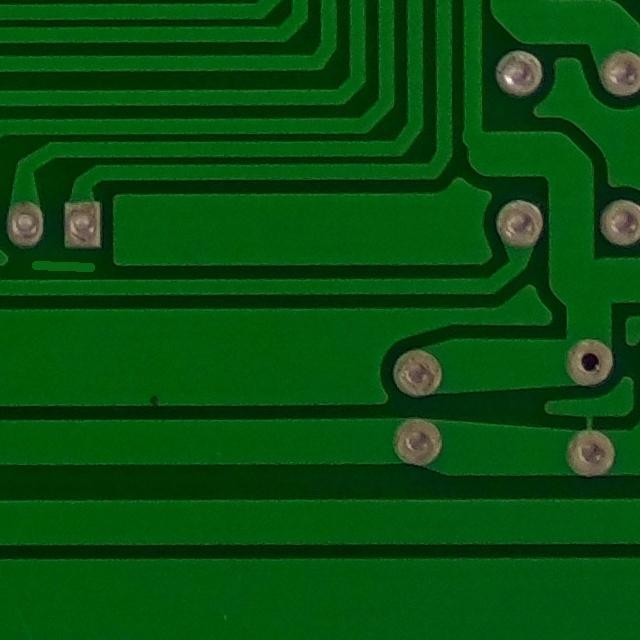spurious_copper: (20, 243, 108, 292)
